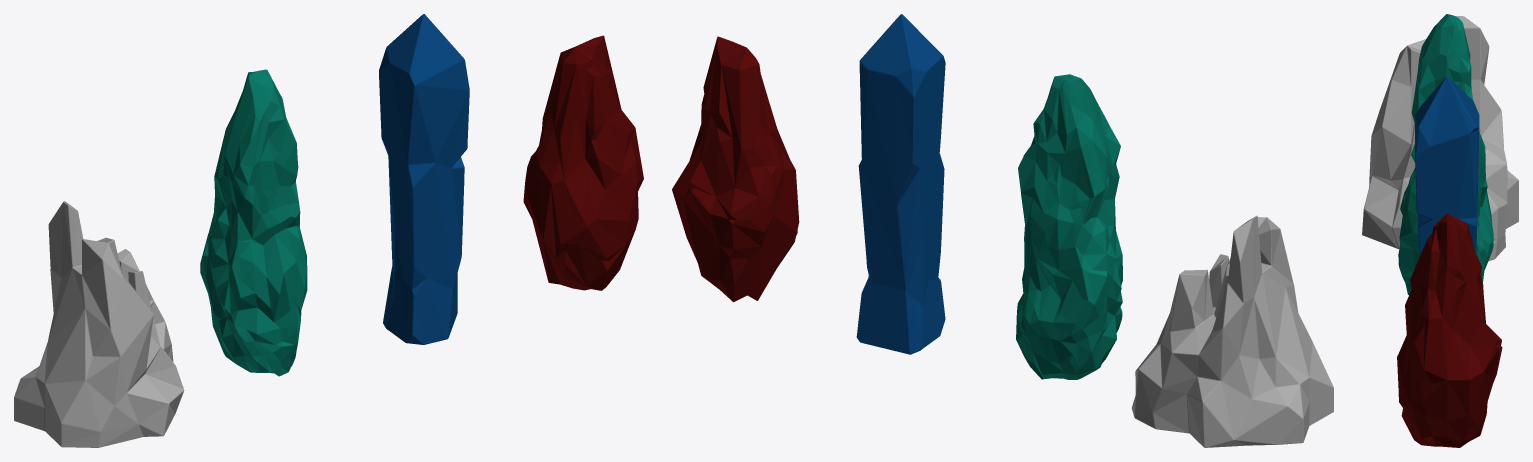
File: Crystal_Collection.fbx
3 renders of one model, left to right at view 1: azimuth 30°, elevation 25°; view 2: azimuth 150°, elevation 25°; view 3: azimuth 270°, elevation 25°, orthographic. The views are drawn at different scales.
Parts seen in each view (by area): view 1: White_Crystal, Blue_Crystal, Turquoise_Crystal, Red_Crystal; view 2: White_Crystal, Turquoise_Crystal, Blue_Crystal, Red_Crystal; view 3: Red_Crystal, White_Crystal, Blue_Crystal, Turquoise_Crystal.
Part boxes in pixels (bbox=[...]): White_Crystal: bbox=[14, 201, 184, 447]; Blue_Crystal: bbox=[379, 14, 469, 344]; Turquoise_Crystal: bbox=[200, 69, 307, 376]; Red_Crystal: bbox=[523, 35, 643, 290]; White_Crystal: bbox=[1131, 215, 1333, 447]; Turquoise_Crystal: bbox=[1016, 74, 1122, 379]; Blue_Crystal: bbox=[856, 14, 945, 354]; Red_Crystal: bbox=[672, 36, 799, 302]; Red_Crystal: bbox=[1397, 213, 1502, 447]; White_Crystal: bbox=[1362, 16, 1518, 261]; Blue_Crystal: bbox=[1415, 76, 1479, 257]; Turquoise_Crystal: bbox=[1398, 14, 1493, 294].
Bounding box in the file's own units: 76.75 × 37.62 × 17.79.
